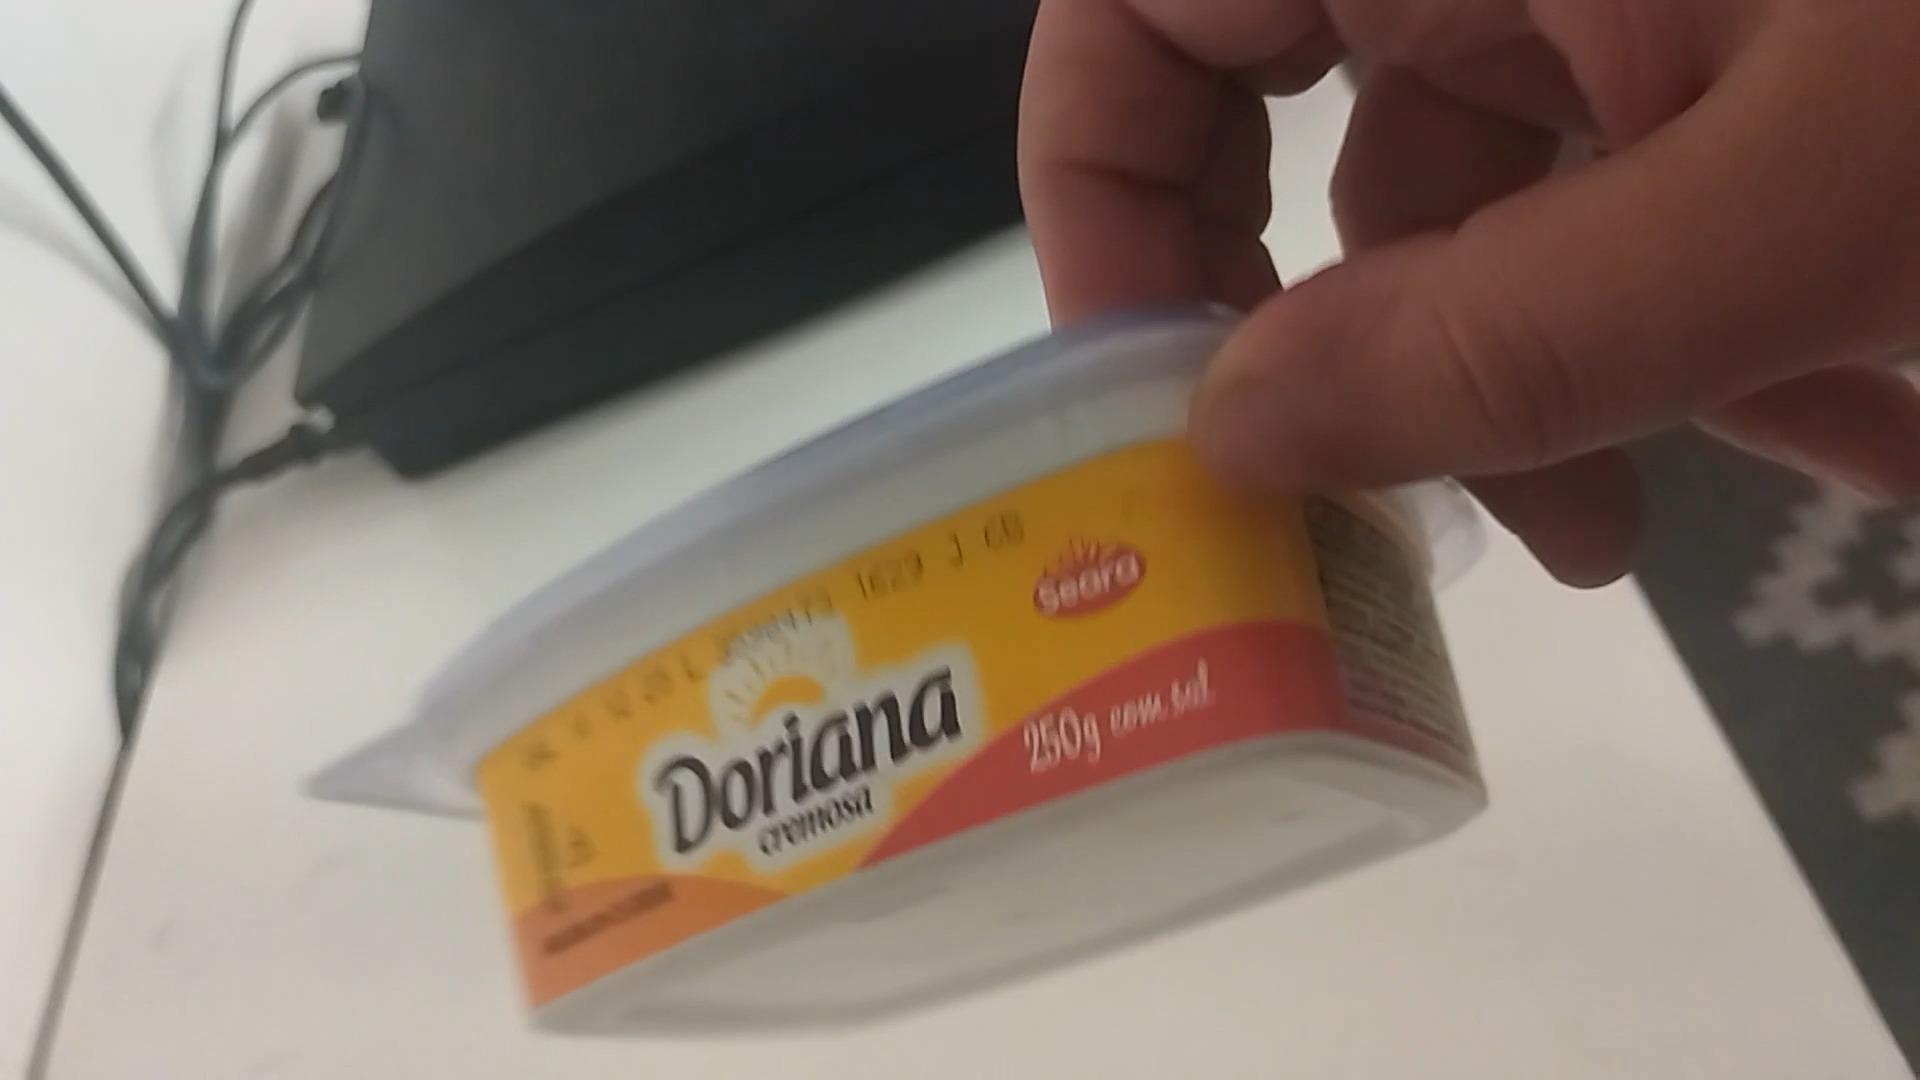butter: (310, 310, 1477, 1036)
